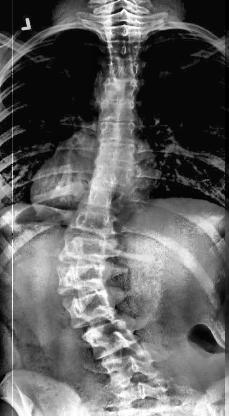Vertebrae: (78, 318, 145, 356), (60, 290, 124, 328), (112, 376, 176, 414), (102, 348, 165, 386), (54, 260, 120, 294), (58, 234, 120, 264), (66, 206, 124, 238), (86, 163, 138, 191), (79, 184, 131, 212), (94, 120, 142, 146), (92, 142, 140, 168), (102, 55, 146, 79), (99, 76, 141, 100), (97, 100, 139, 122), (104, 38, 145, 58), (103, 23, 146, 41), (102, 10, 145, 26)
